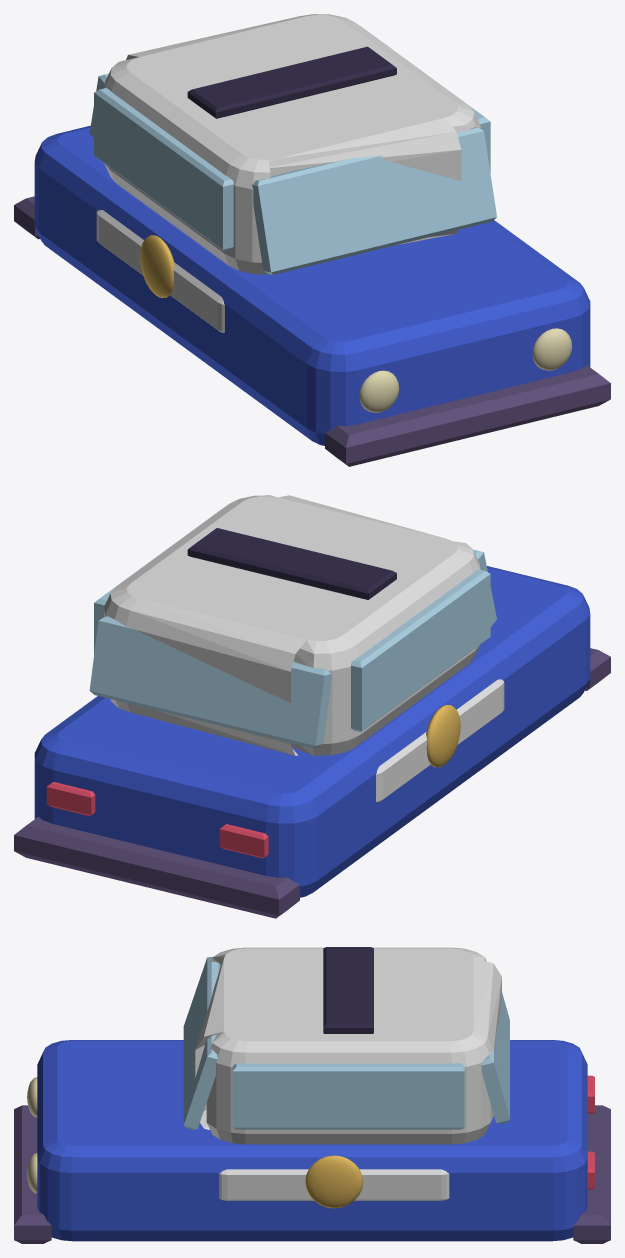
Rendered from carro_guarda.glb.
3 renders of one model, top to bottom at view 1: azimuth 30°, elevation 25°; view 2: azimuth 150°, elevation 25°; view 3: azimuth 270°, elevation 25°, orthographic. The views are drawn at different scales.
Visible parts, largest first — view 1: carro_guarda_corpo; view 2: carro_guarda_corpo; view 3: carro_guarda_corpo.
Part boxes in pixels (x1=…): carro_guarda_corpo: x1=14, y1=14, x2=610, y2=466; carro_guarda_corpo: x1=14, y1=495, x2=610, y2=918; carro_guarda_corpo: x1=14, y1=947, x2=610, y2=1243.
Bounding box in the file's own units: 2.16 × 1.55 × 4.12.
